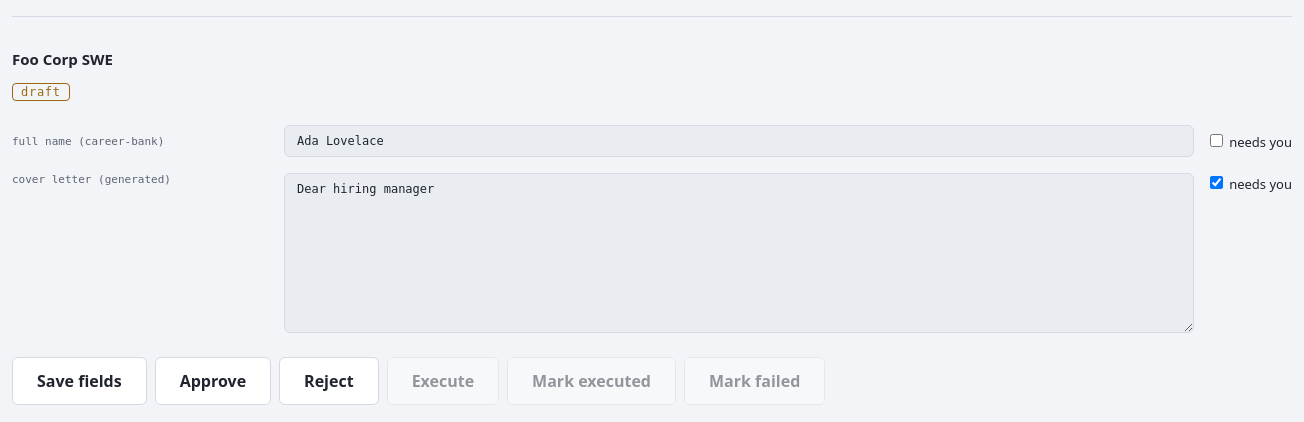
Test: Approve posts directly with no body, and the detail pane shows the new status after the round-trip
expect the text "draft" is shown: met, box [12, 83, 70, 101]
Click the button "Approve". click: (213, 381)
box: [155, 357, 271, 405]
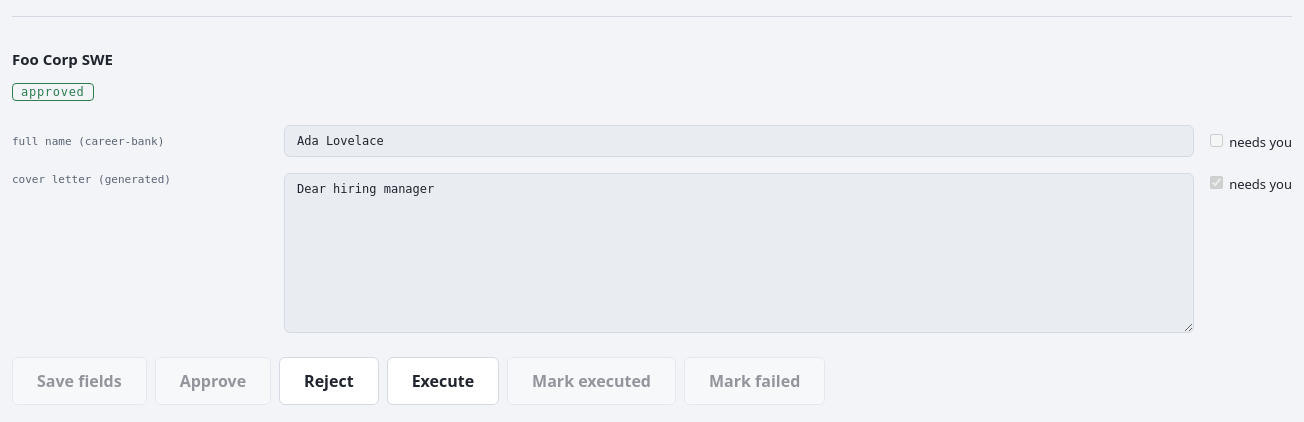
expect the text "approved" is shown: met, box [12, 83, 94, 101]
